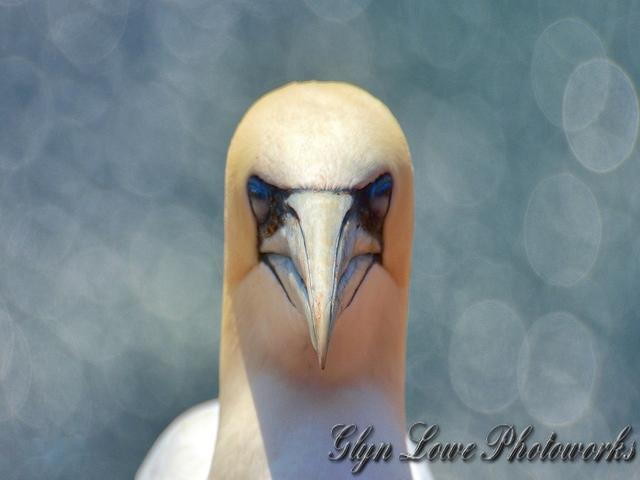bird: (190, 81, 482, 476)
